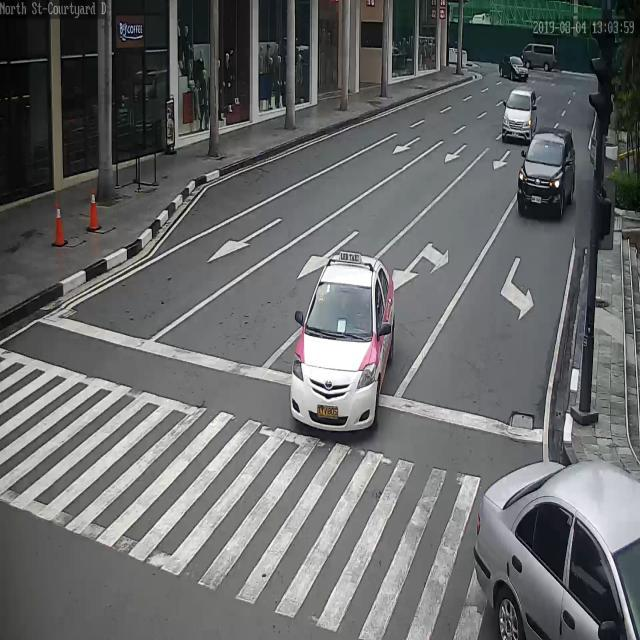car: (471, 461, 637, 640), (294, 259, 396, 428), (517, 127, 580, 217), (502, 86, 539, 142), (503, 54, 532, 83)
van: (521, 42, 558, 71)
